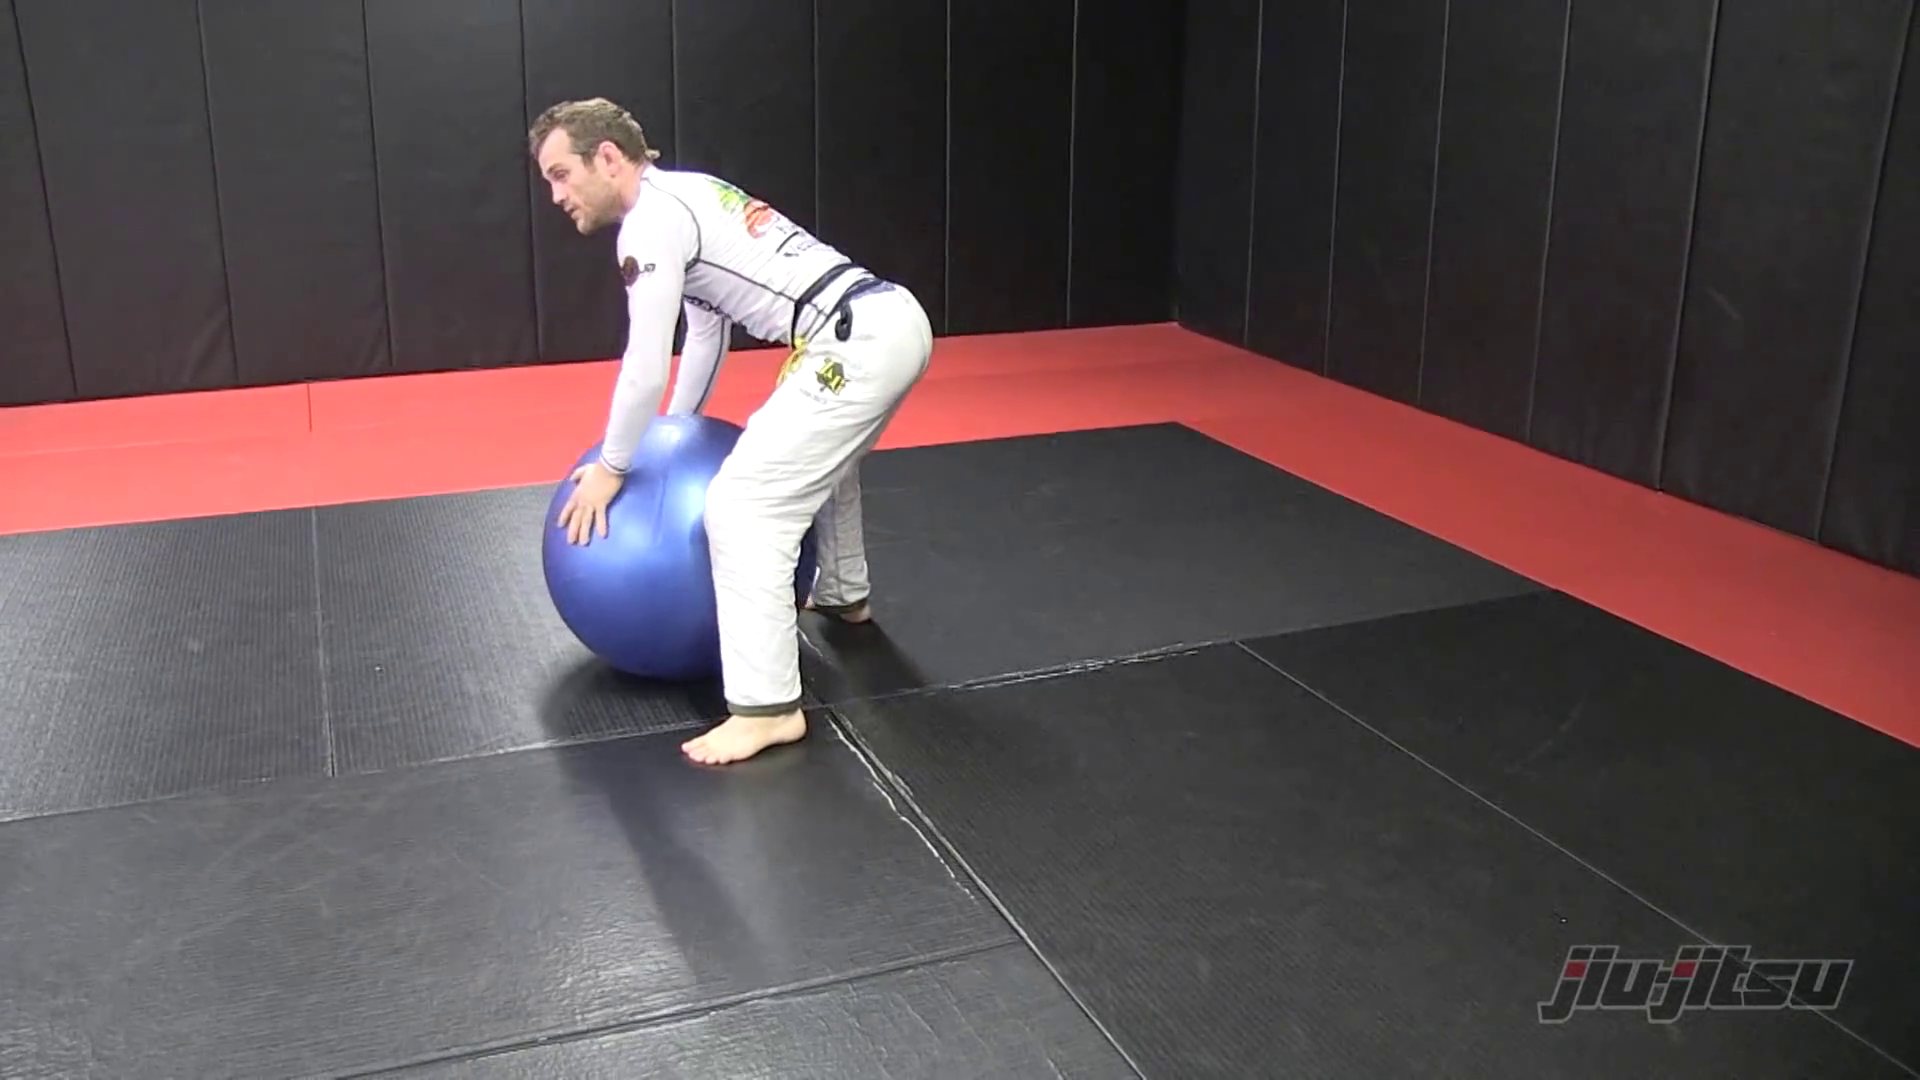yogaball: (524, 404, 816, 708)
